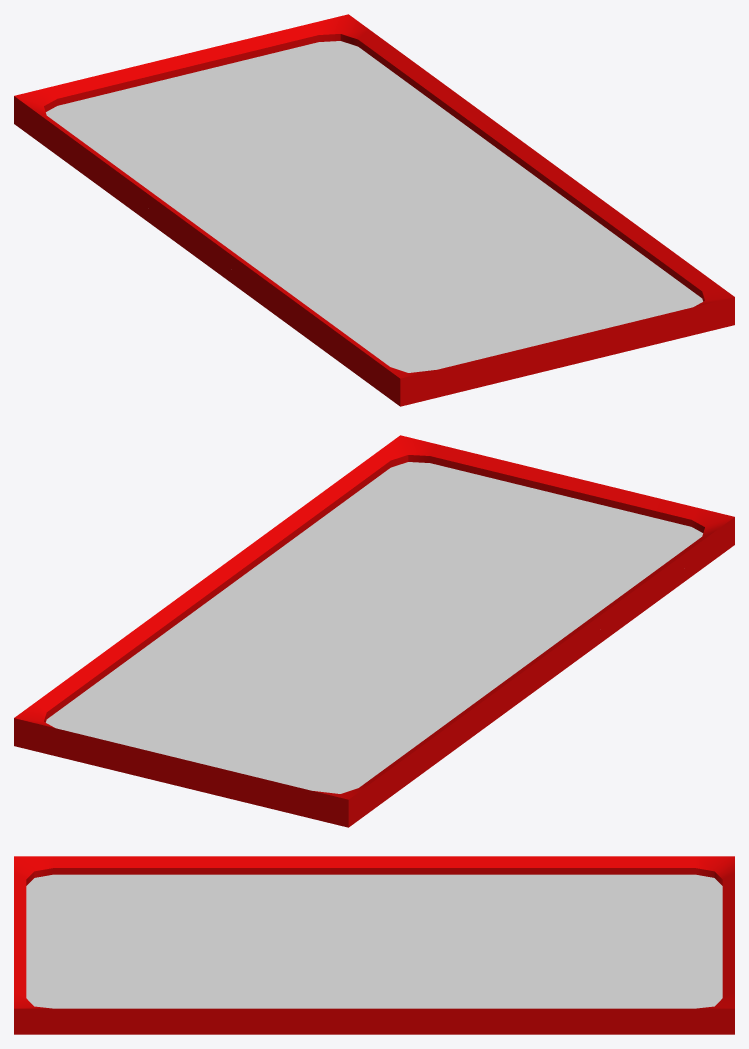
Rendered from window_light_flat_rectangle.fbx.
3 renders of one model, top to bottom at view 1: azimuth 30°, elevation 25°; view 2: azimuth 150°, elevation 25°; view 3: azimuth 270°, elevation 25°, orthographic. The views are drawn at different scales.
Parts seen in each view (by area): view 1: Window_light_glass, window_light_frame; view 2: Window_light_glass, window_light_frame; view 3: Window_light_glass, window_light_frame.
Boxes of the visible parts, x1,y1,x2,y2 form: Window_light_glass: [46, 41, 702, 372]; window_light_frame: [14, 14, 734, 406]; Window_light_glass: [46, 462, 702, 793]; window_light_frame: [14, 435, 734, 827]; Window_light_glass: [26, 874, 722, 1008]; window_light_frame: [14, 856, 734, 1034].
Bounding box in the file's own units: 50 × 4 × 100.
